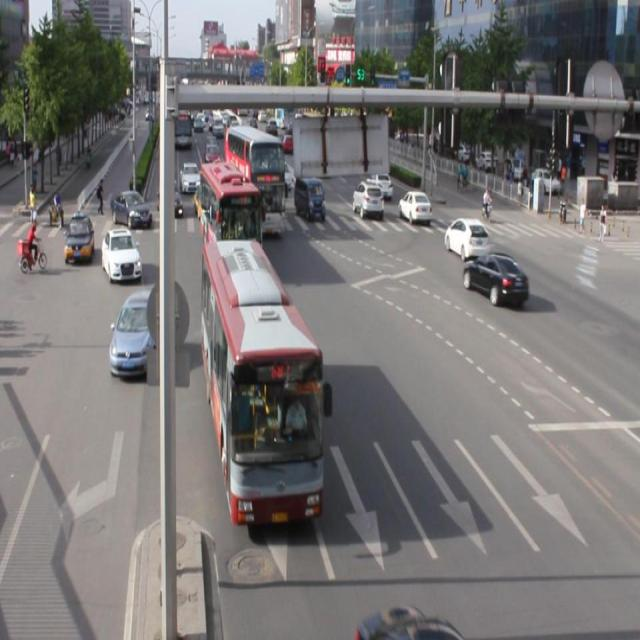car: (110, 288, 162, 377), (462, 251, 528, 307), (102, 228, 142, 282), (443, 217, 490, 259)
van: (202, 241, 322, 519), (200, 162, 262, 261)
